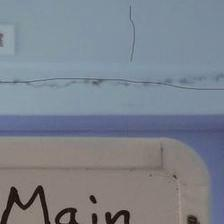crack: (1, 76, 223, 88), (130, 5, 137, 61)
